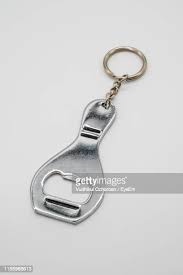bottleopener: (30, 46, 149, 225)
